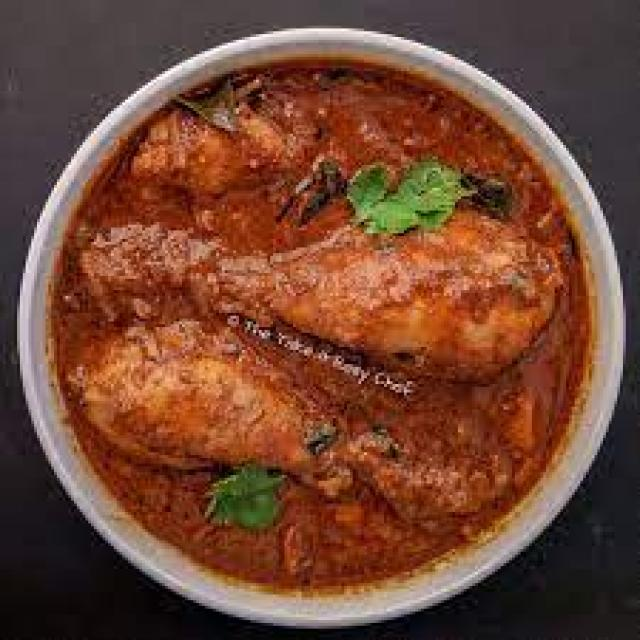Frango: (46, 48, 554, 618)
